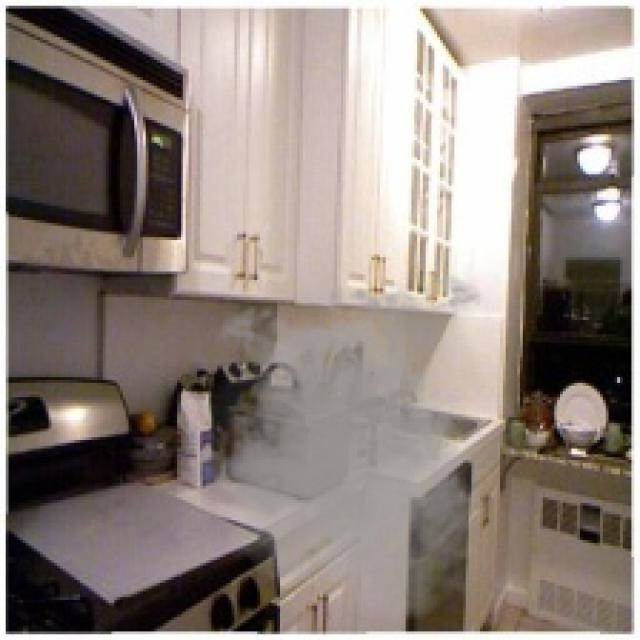smoke: (166, 263, 537, 626)
